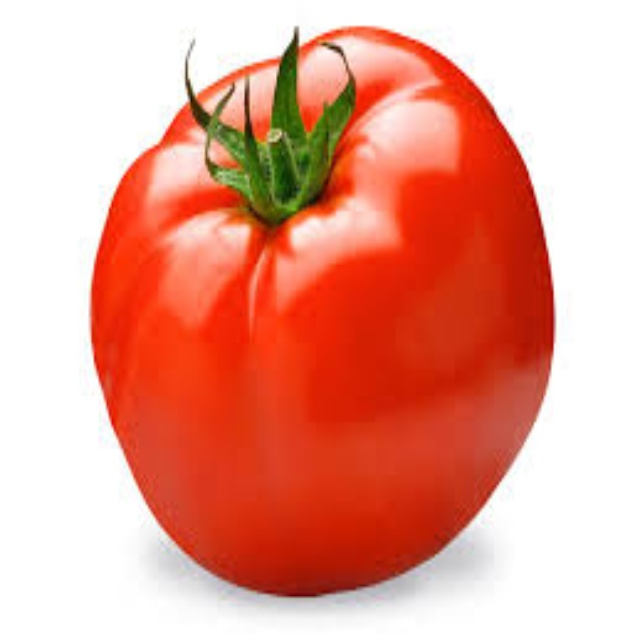tomato: (86, 15, 567, 597)
